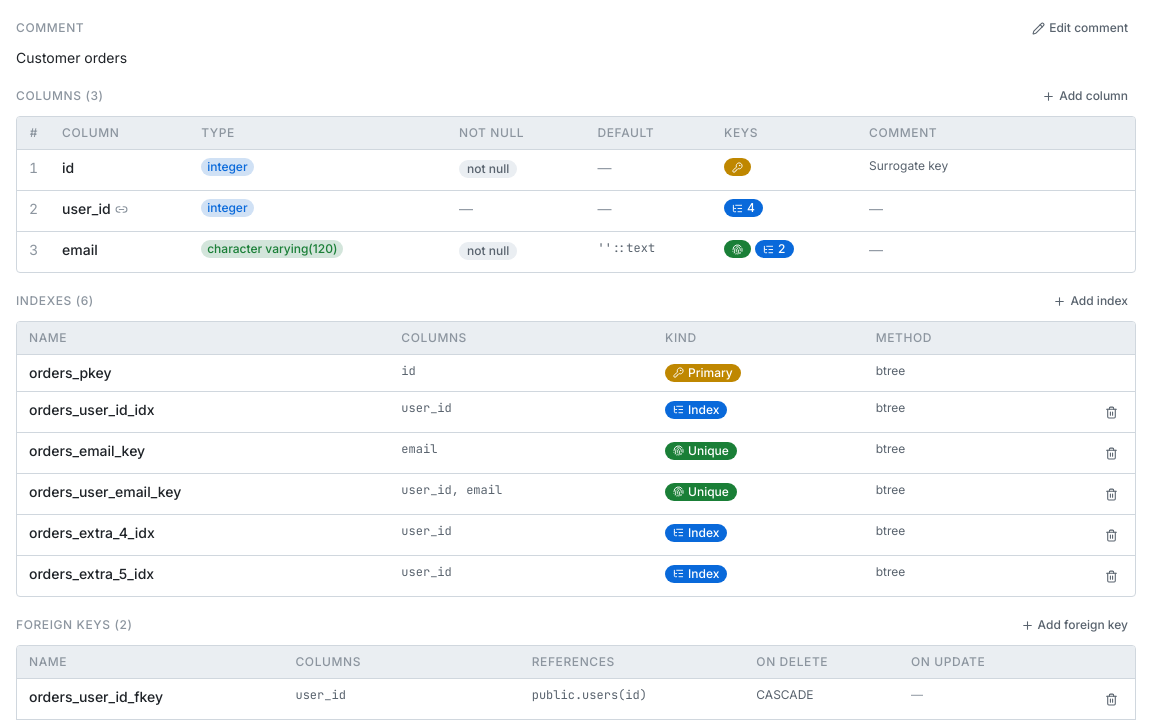
TableStructurePanel — derived per-column indicators › names only the first three indexes and counts the rest
Step 1. Hover over the button named "4 indexes on user_id" → (744, 208), box x1=724 y1=199 x2=763 y2=217
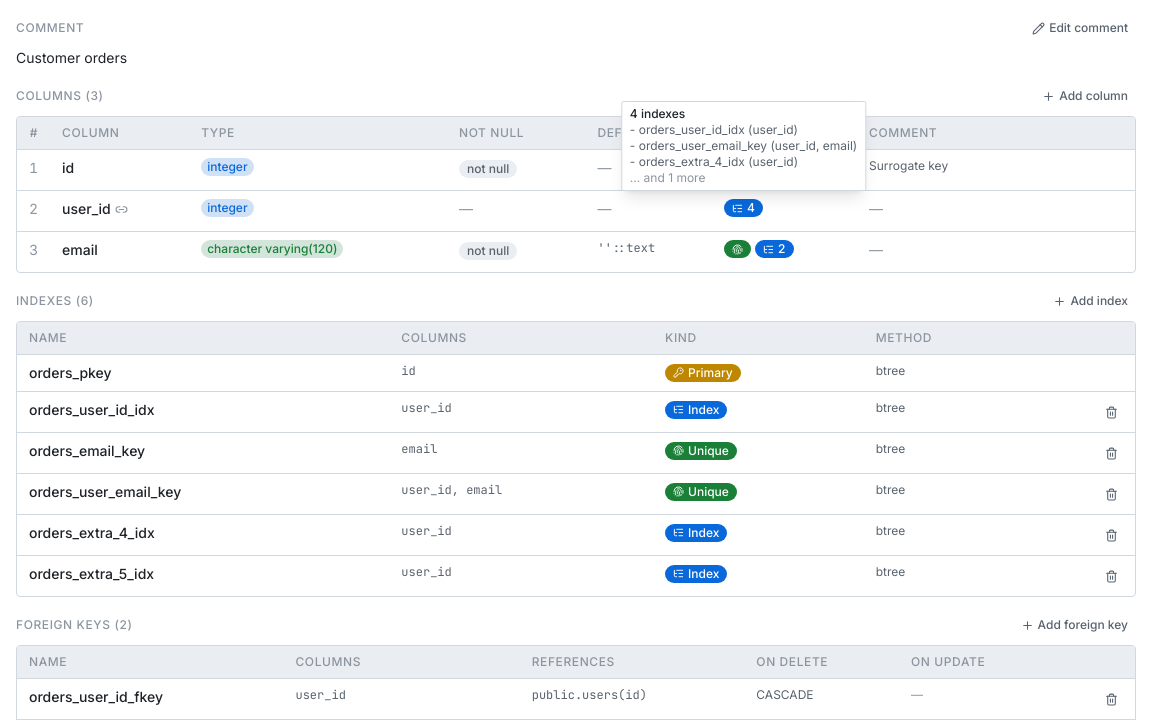
Expected: the tooltip does not show "orders_extra_5_idx", x1=621 y1=101 x2=866 y2=191
Now the tooltip shows "4 indexes", box x1=621 y1=101 x2=866 y2=191
Now the tooltip shows "... and 1 more", box x1=621 y1=101 x2=866 y2=191
